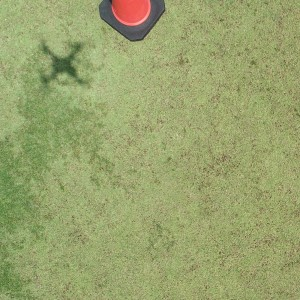traffic cone: (98, 1, 165, 42)
